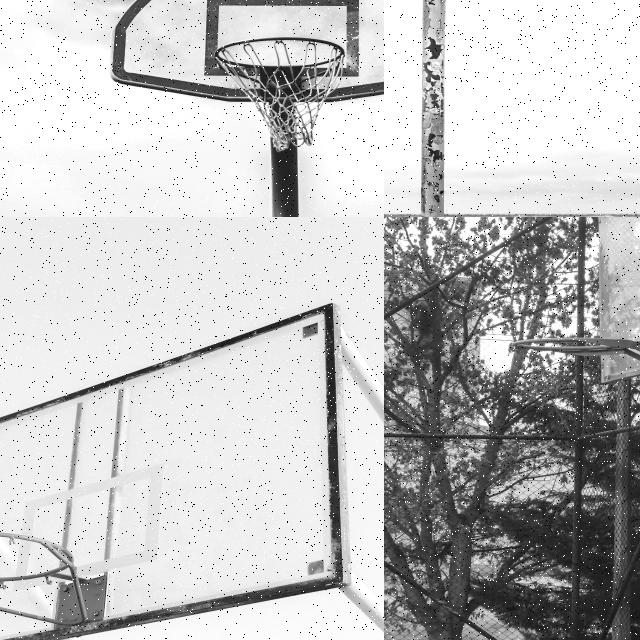backboard: (0, 303, 334, 640), (111, 0, 384, 102), (597, 217, 640, 382)
